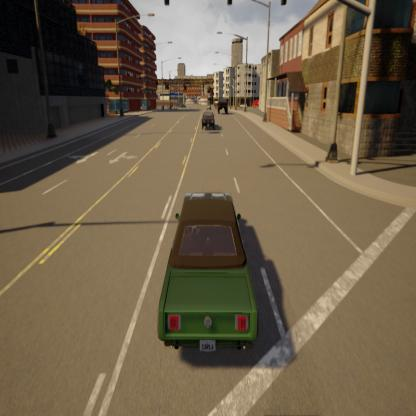Cars: (158, 191, 258, 356), (202, 108, 215, 132), (218, 95, 228, 116)
